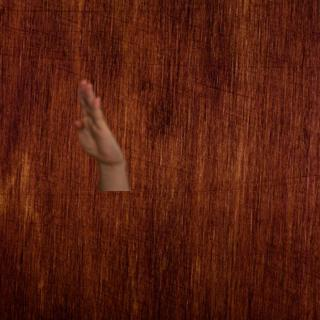RIGHT: (68, 75, 126, 169)
